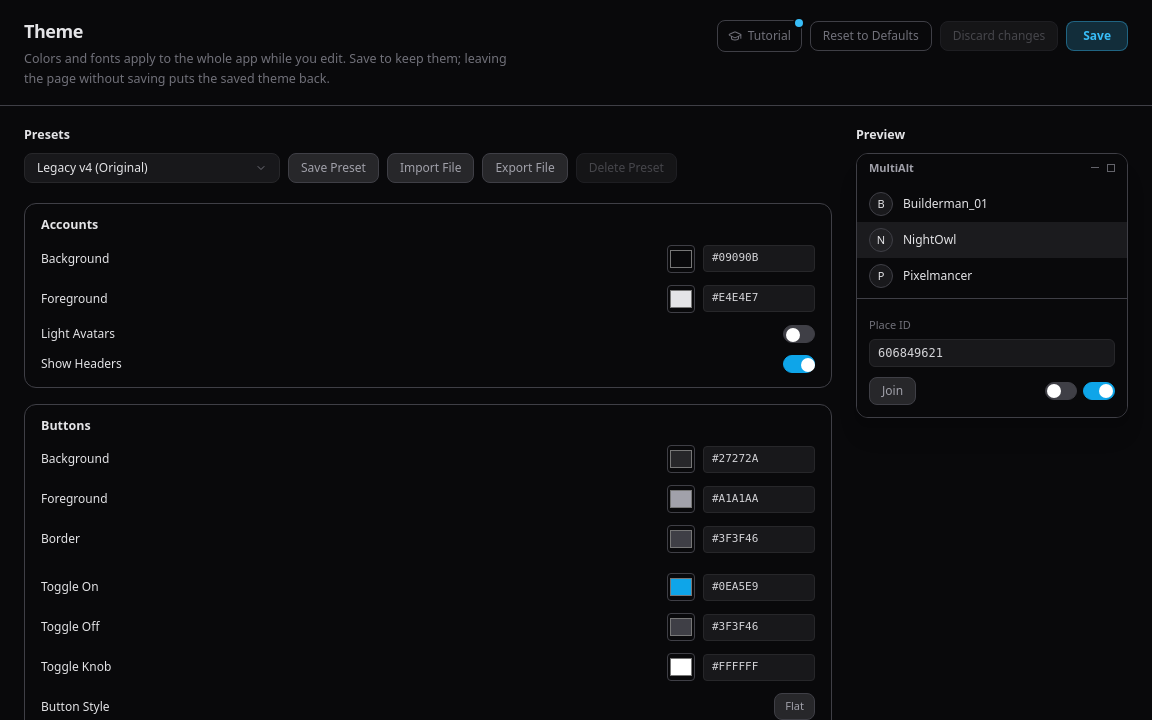
Test case: ThemePage — page behaviour › saves and stays on the page
Step 1. Click the button named "Light Avatars" → coordinates (799, 334), box x1=783 y1=325 x2=815 y2=343
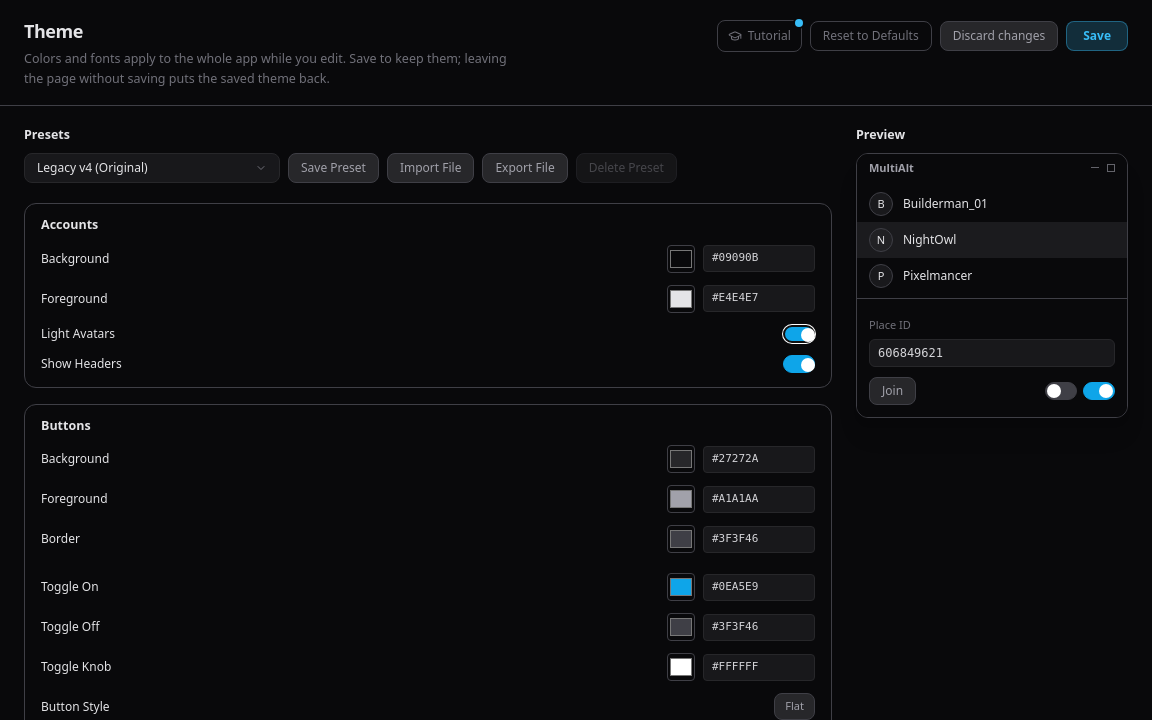
Step 2. Click the button "Save" → coordinates (1097, 36), box x1=1066 y1=21 x2=1128 y2=51
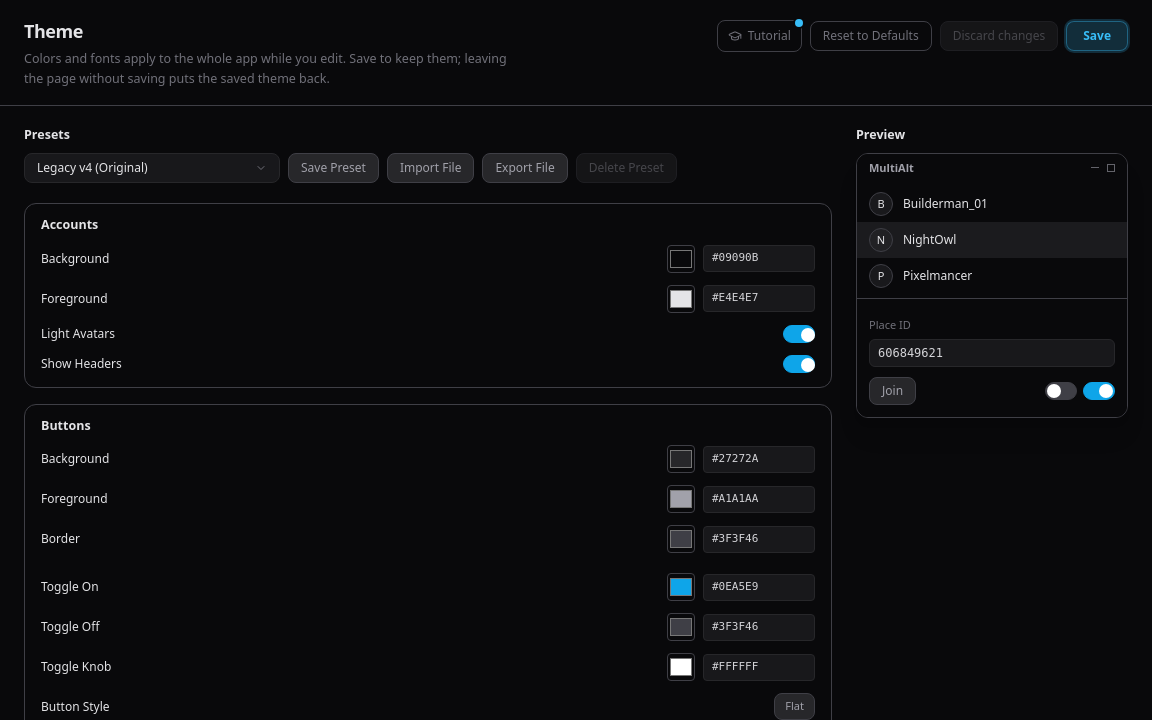
Expected: the button "Discard changes" is disabled, x1=940 y1=21 x2=1058 y2=51
